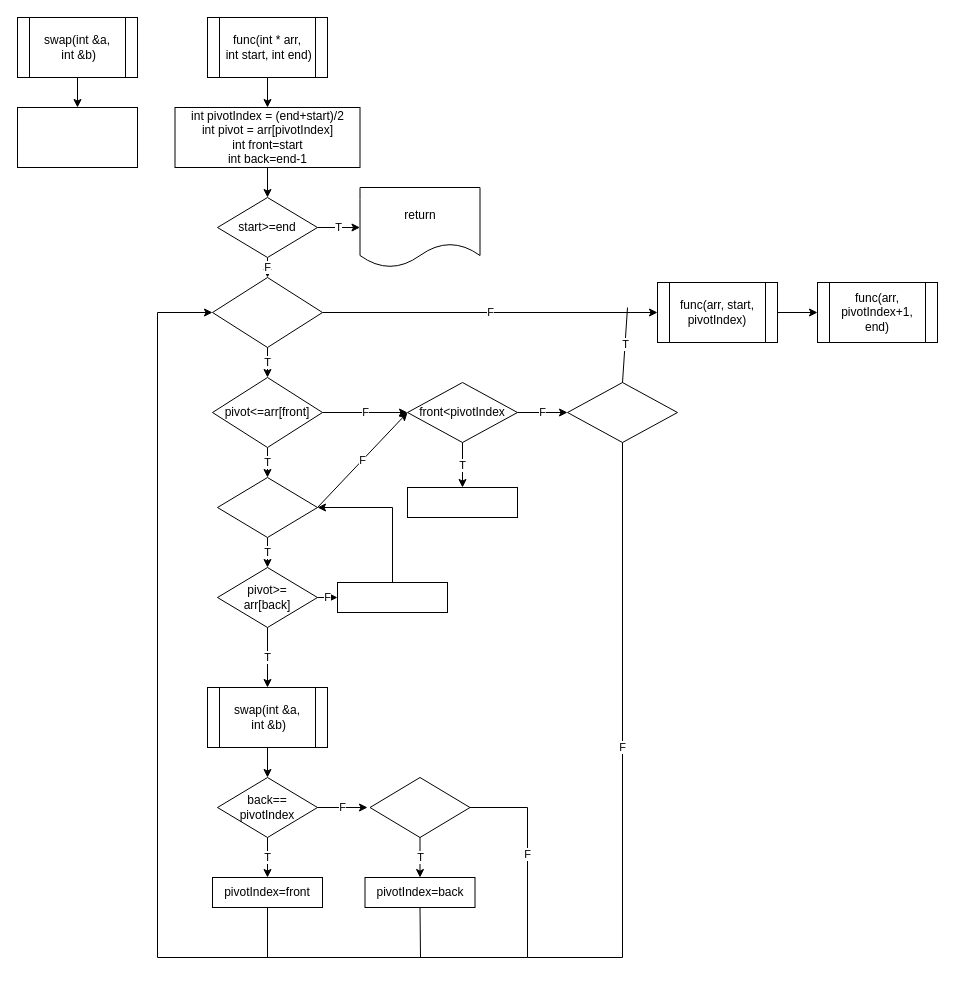
This 955x983 diagram has some shape labels left out. The shapes that lost their labels are listed below. From the top down, each one's centre as x and y in pixels, then its label:
At (77,137): "int temp=a a=b b=temp".
At (267,312): "front<= pivotIndex".
At (622,412): "pivotIndex ==front,back".
At (267,507): "back>= arr[back]".
At (462,502): "front++".
At (392,597): "back--".
At (419,807): "front== pivotIndex".
